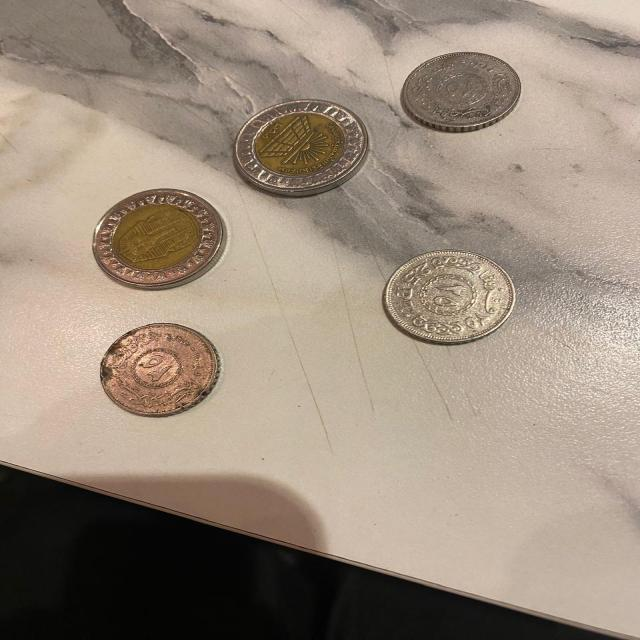One Pound: (220, 85, 377, 200), (80, 180, 234, 297)
quarter pound: (369, 244, 526, 352), (88, 310, 232, 424), (390, 44, 534, 138)
